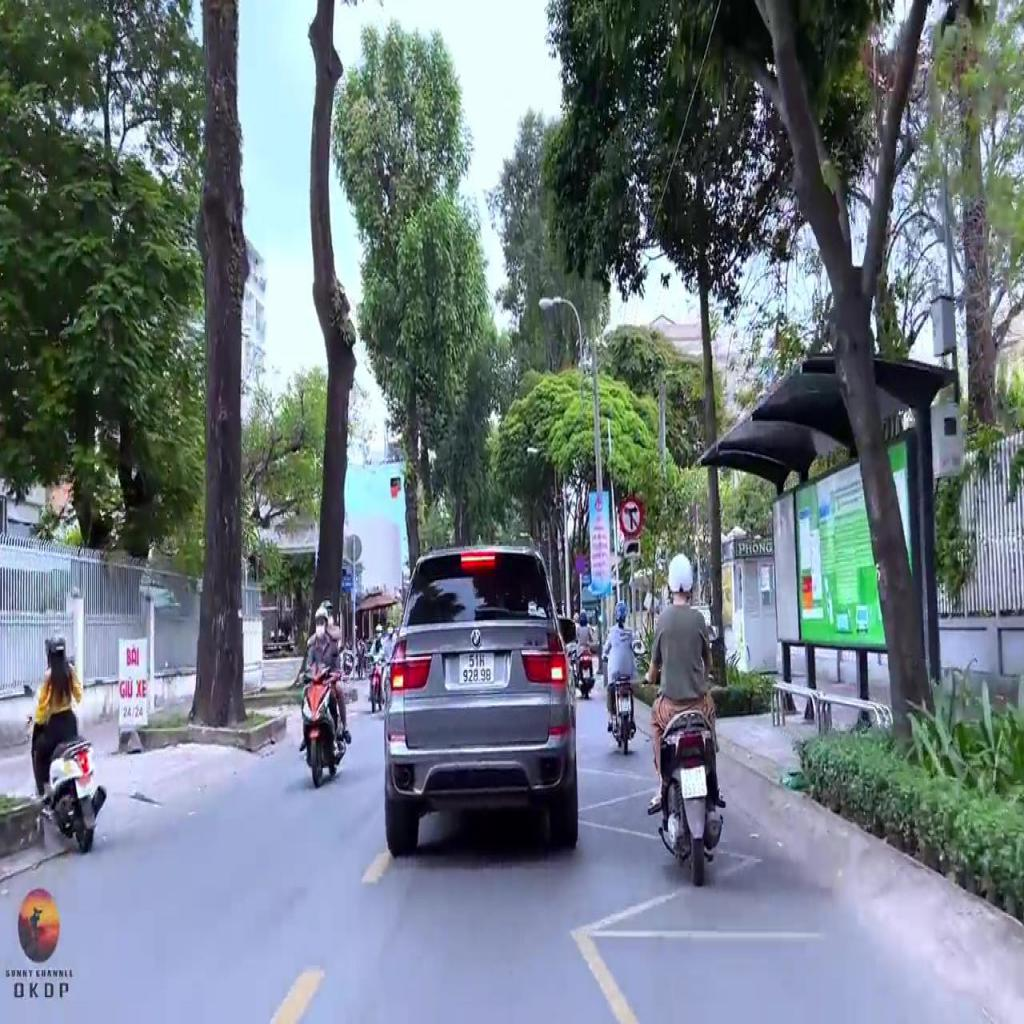cam_do_xe: (575, 553, 585, 573)
cam_re_trai_va_phai: (620, 496, 642, 538)
khac: (624, 540, 641, 558)
